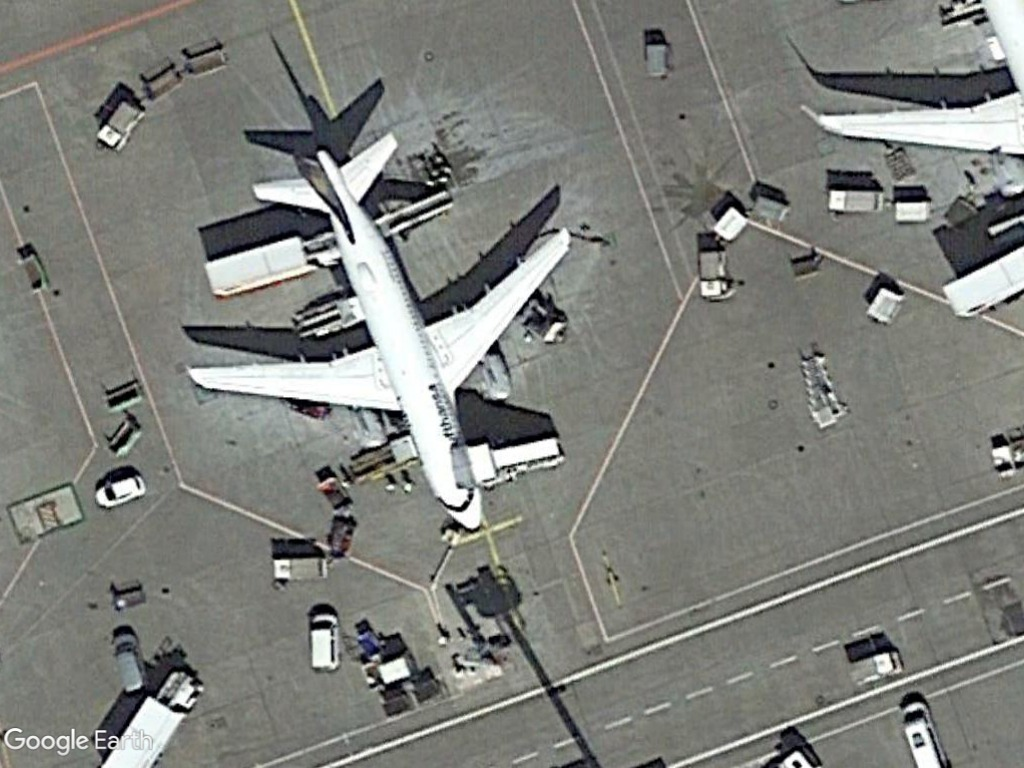airliner: (179, 128, 585, 535)
car: (88, 472, 147, 512)
van: (108, 630, 149, 695), (306, 610, 341, 676)
